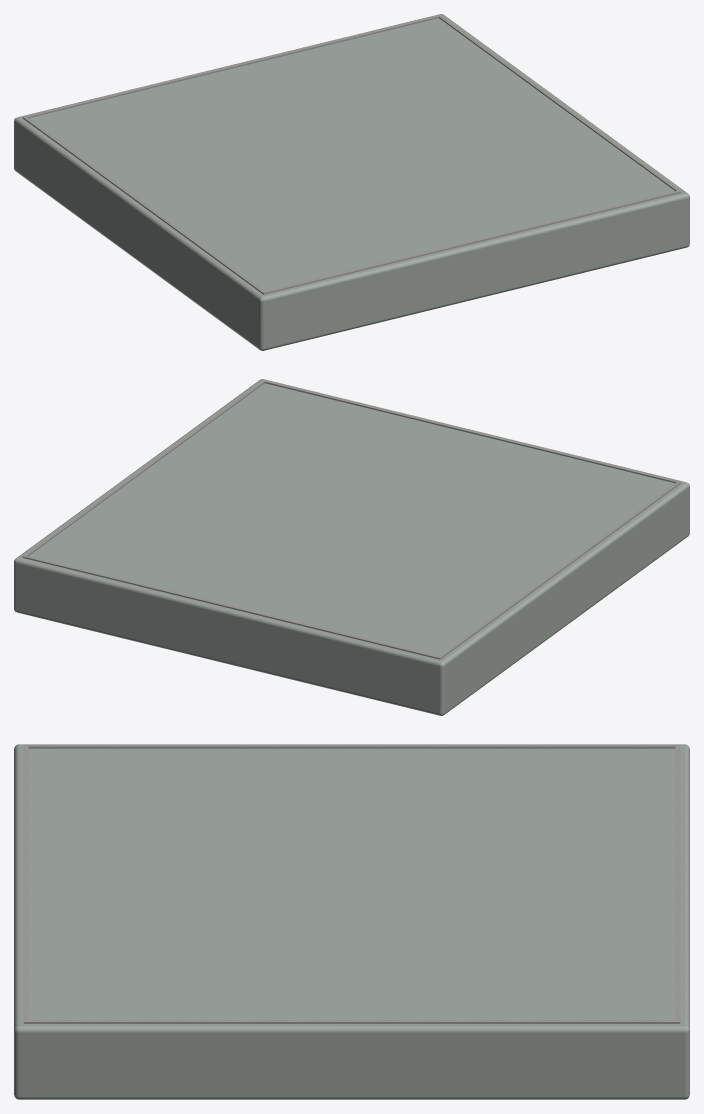
File: prison-complex-builder-floor-tile-5d7588bd__25607.glb
3 renders of one model, top to bottom at view 1: azimuth 30°, elevation 25°; view 2: azimuth 150°, elevation 25°; view 3: azimuth 270°, elevation 25°, orthographic. The views are drawn at different scales.
Parts seen in each view (by area): view 1: floor-tile; view 2: floor-tile; view 3: floor-tile.
Part boxes in pixels (x1,y1,x2,y2): floor-tile: (14,14,689,350); floor-tile: (14,379,689,715); floor-tile: (14,744,689,1099).
Size of the model in its own units: 1 by 0.123 by 1.
2 materials, 1 textured.
